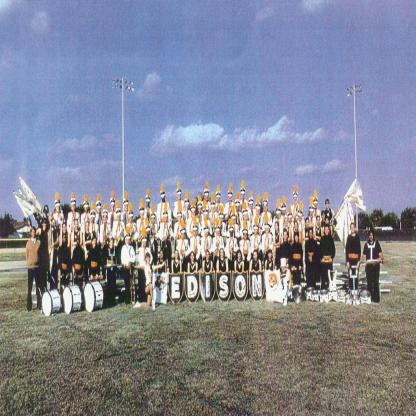face: (351, 224, 355, 233), (250, 203, 254, 211), (296, 237, 300, 245), (370, 233, 374, 241), (44, 221, 48, 229), (64, 235, 68, 243), (75, 223, 79, 231), (93, 239, 97, 247), (310, 230, 313, 240), (97, 207, 102, 213), (147, 257, 151, 264), (254, 253, 258, 260), (326, 219, 330, 226), (45, 207, 49, 214), (104, 216, 108, 223), (264, 203, 267, 212), (307, 219, 310, 228), (111, 239, 114, 248), (161, 251, 164, 259), (176, 251, 179, 259), (162, 197, 166, 203), (178, 194, 182, 200), (192, 255, 195, 263), (207, 253, 210, 261), (222, 251, 225, 259), (242, 193, 245, 201), (244, 215, 248, 221), (244, 233, 248, 239), (239, 254, 243, 260), (276, 223, 279, 231), (285, 233, 288, 241), (318, 217, 321, 225), (326, 228, 329, 236), (282, 266, 286, 272), (57, 205, 60, 213), (33, 231, 36, 239), (77, 237, 80, 245), (125, 205, 129, 211), (128, 238, 131, 245), (153, 217, 156, 224), (193, 210, 196, 217), (183, 233, 186, 240), (231, 231, 234, 238), (257, 209, 260, 216), (296, 223, 299, 230), (311, 211, 314, 218), (64, 225, 67, 232), (87, 223, 90, 230), (112, 204, 115, 211), (141, 213, 145, 218), (147, 201, 150, 207), (165, 216, 168, 222), (179, 216, 182, 222), (195, 230, 198, 236), (199, 208, 202, 214), (206, 195, 209, 201), (218, 197, 221, 203), (229, 196, 232, 202), (213, 207, 216, 213), (221, 217, 224, 223), (237, 206, 240, 212), (267, 228, 270, 234), (255, 229, 258, 235), (269, 253, 272, 259), (294, 197, 297, 203), (284, 210, 287, 216), (286, 220, 289, 226), (300, 216, 303, 222), (315, 204, 318, 210), (327, 202, 330, 208), (323, 214, 326, 220), (51, 214, 54, 220), (73, 204, 76, 210), (86, 207, 89, 213), (92, 217, 95, 223), (130, 217, 133, 222), (144, 242, 147, 247), (147, 231, 150, 236), (186, 205, 189, 210), (206, 232, 209, 237), (205, 215, 208, 220), (277, 214, 280, 219), (119, 216, 122, 221), (217, 231, 220, 235), (233, 219, 235, 223), (290, 219, 292, 223)
